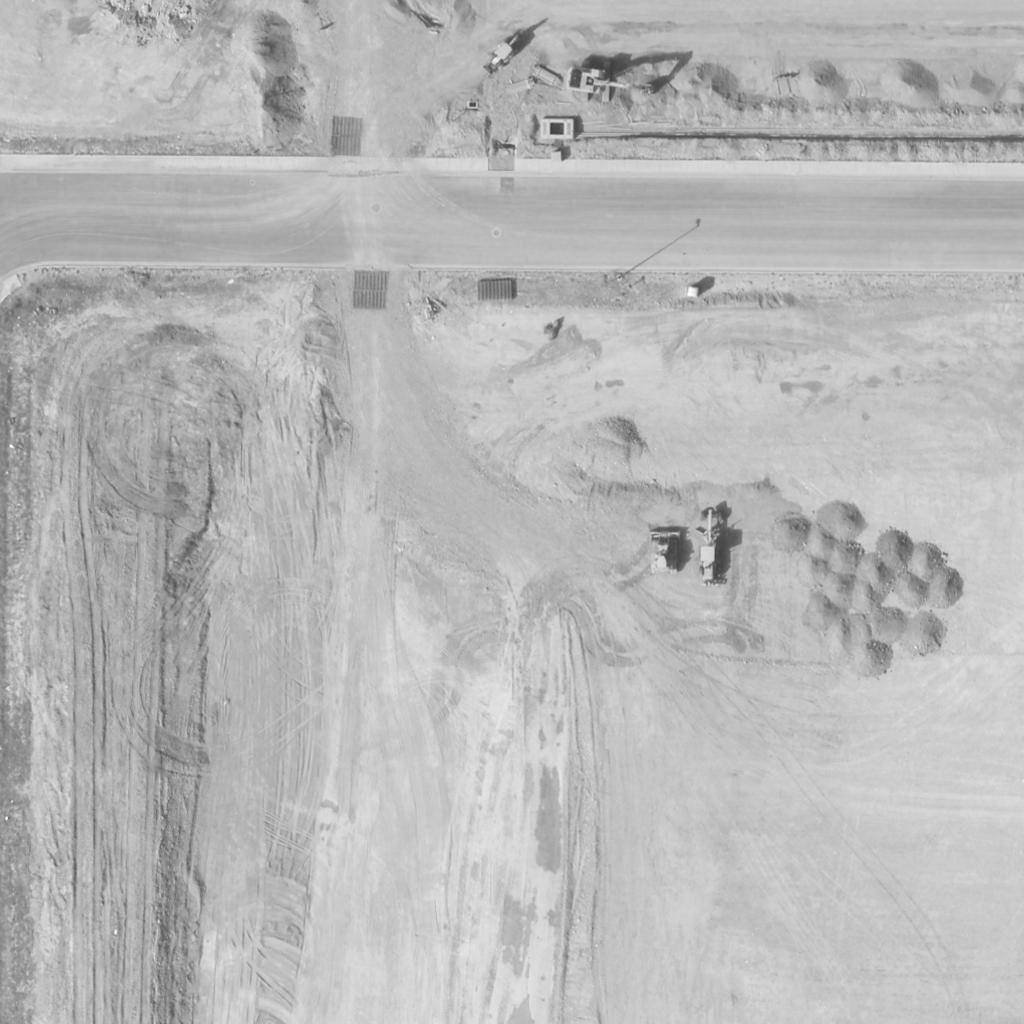vehicle: (564, 64, 660, 104), (698, 507, 728, 587), (476, 32, 528, 78), (651, 531, 683, 573)
